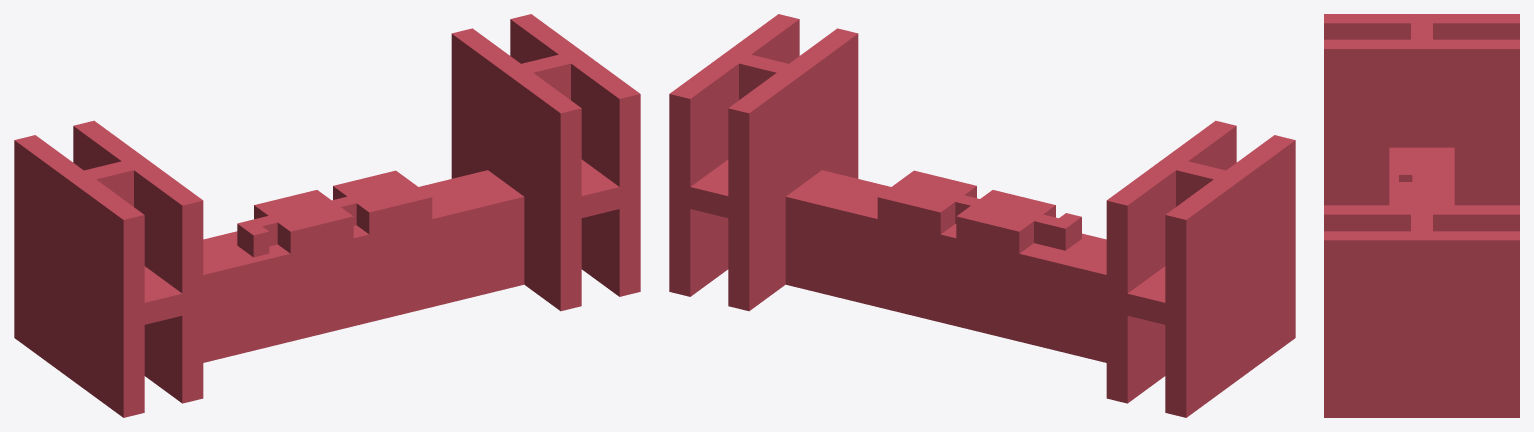
The picture shows the model from 3 angles, left to right: view 1: azimuth 30°, elevation 25°; view 2: azimuth 150°, elevation 25°; view 3: azimuth 270°, elevation 25°; orthographic projection. The views are drawn at different scales.
Visible parts, largest first — view 1: Mesh_Mesh_head_geo.001_lambert2SG.001; view 2: Mesh_Mesh_head_geo.001_lambert2SG.001; view 3: Mesh_Mesh_head_geo.001_lambert2SG.001.
Part boxes in pixels (x1,y1,x2,y2): Mesh_Mesh_head_geo.001_lambert2SG.001: [14, 14, 640, 417]; Mesh_Mesh_head_geo.001_lambert2SG.001: [669, 14, 1295, 417]; Mesh_Mesh_head_geo.001_lambert2SG.001: [1324, 14, 1519, 417].
Bounding box in the file's own units: 123 × 45 × 45.
